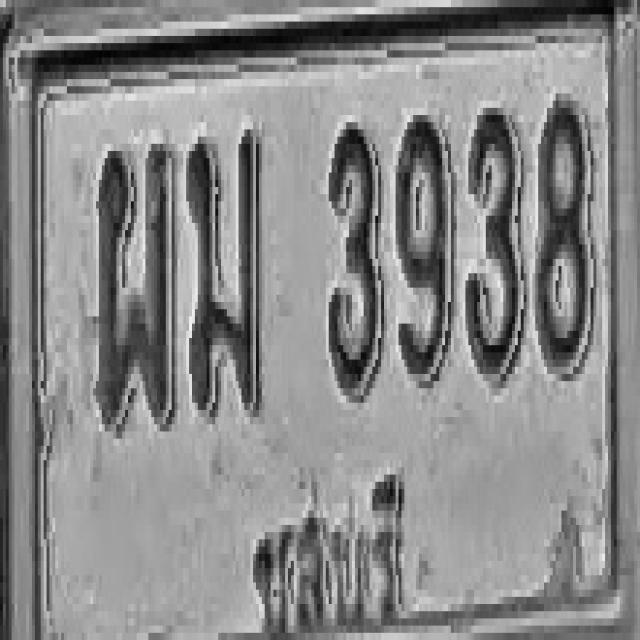3: (466, 101, 524, 381), (327, 115, 383, 396)
37PhorPhueng: (96, 137, 175, 424)
42MorMa: (188, 130, 263, 417)
8: (535, 97, 591, 370)
9: (396, 111, 451, 385)
Chonburi: (240, 464, 408, 640)
